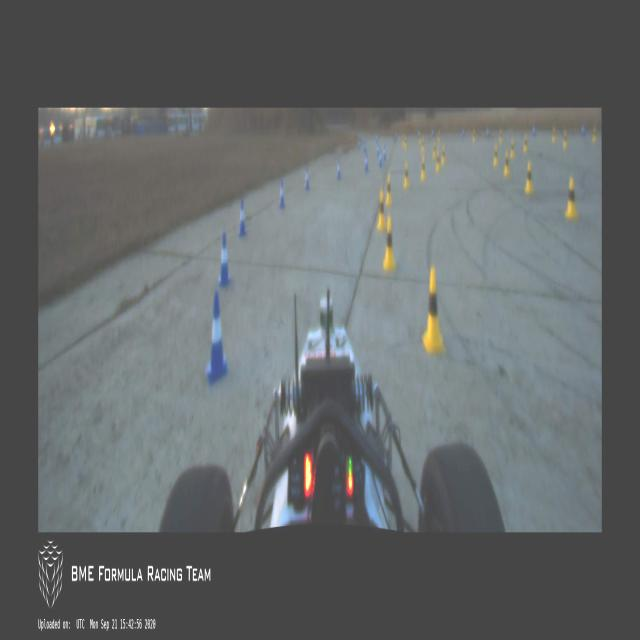blue_cone: (205, 294, 228, 382), (217, 232, 231, 288), (237, 199, 247, 236), (278, 180, 286, 208), (304, 167, 310, 190), (336, 158, 342, 180), (382, 144, 387, 162), (364, 154, 368, 172), (378, 150, 382, 168), (581, 121, 585, 137), (532, 122, 536, 136), (486, 124, 489, 138), (462, 124, 464, 138), (377, 143, 379, 155), (432, 127, 434, 139), (358, 138, 360, 150), (364, 144, 366, 156), (376, 133, 378, 145), (395, 130, 397, 142), (363, 133, 365, 144)
yellow_cone: (422, 268, 445, 357), (383, 215, 395, 272), (564, 178, 578, 222), (376, 191, 387, 231), (524, 162, 534, 196), (386, 176, 394, 207), (404, 162, 410, 188), (504, 152, 510, 178), (421, 157, 427, 180), (493, 145, 499, 167), (562, 128, 568, 150), (436, 150, 441, 172), (510, 138, 516, 156), (523, 136, 528, 152), (403, 134, 408, 150), (552, 124, 556, 144), (592, 124, 596, 144), (442, 146, 446, 164), (421, 136, 425, 152), (499, 128, 503, 144), (437, 130, 441, 144), (472, 128, 476, 142), (418, 131, 421, 145), (434, 143, 436, 159), (402, 134, 404, 146)
